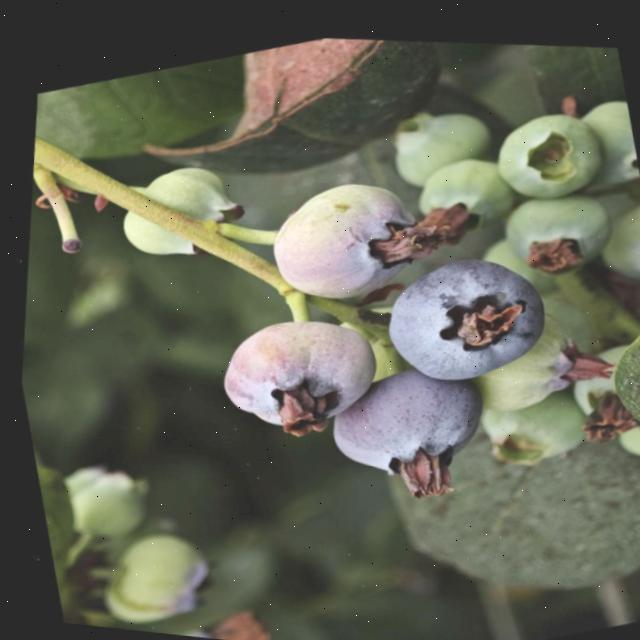RipeBlueBerry: (364, 223, 558, 405)
Semi-RipeBlueBerry: (194, 284, 390, 451), (251, 145, 429, 310)
UnripeBlueBerry: (79, 507, 219, 634), (480, 89, 605, 205)
